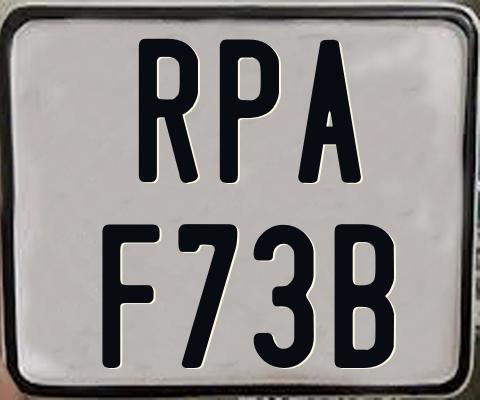3: (253, 225, 315, 374)
7: (175, 222, 236, 370)
A: (295, 38, 358, 185)
B: (331, 222, 397, 366)
F: (101, 223, 161, 367)
P: (218, 36, 281, 182)
R: (139, 39, 200, 188)
